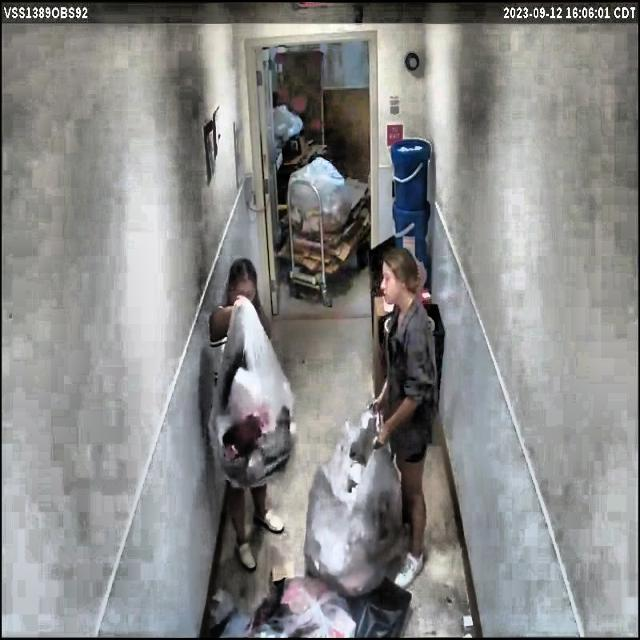not-gloved: (375, 417, 396, 455), (370, 388, 392, 415)
